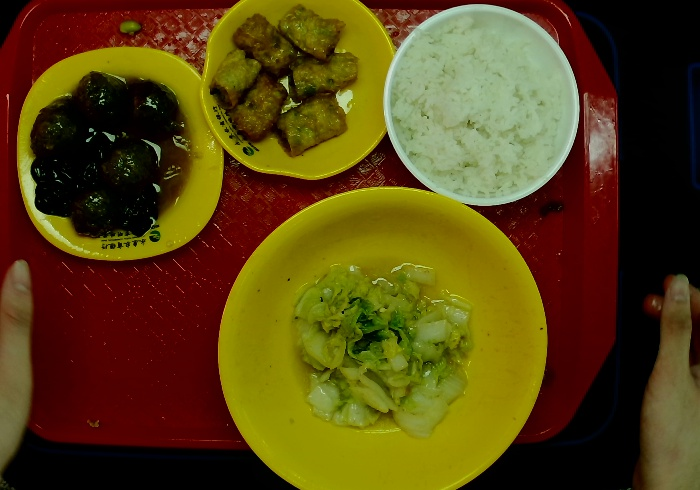YKMZ-Fan_Wan: (382, 1, 578, 208)
YKMZ-Huang_Se_Ao_Bian_Wan: (198, 1, 398, 180)
YKMZ-Huang_Se_Fang_Die: (19, 47, 230, 261)
YKMZ-Huang_Se_Tang_Wan: (218, 180, 556, 490)
